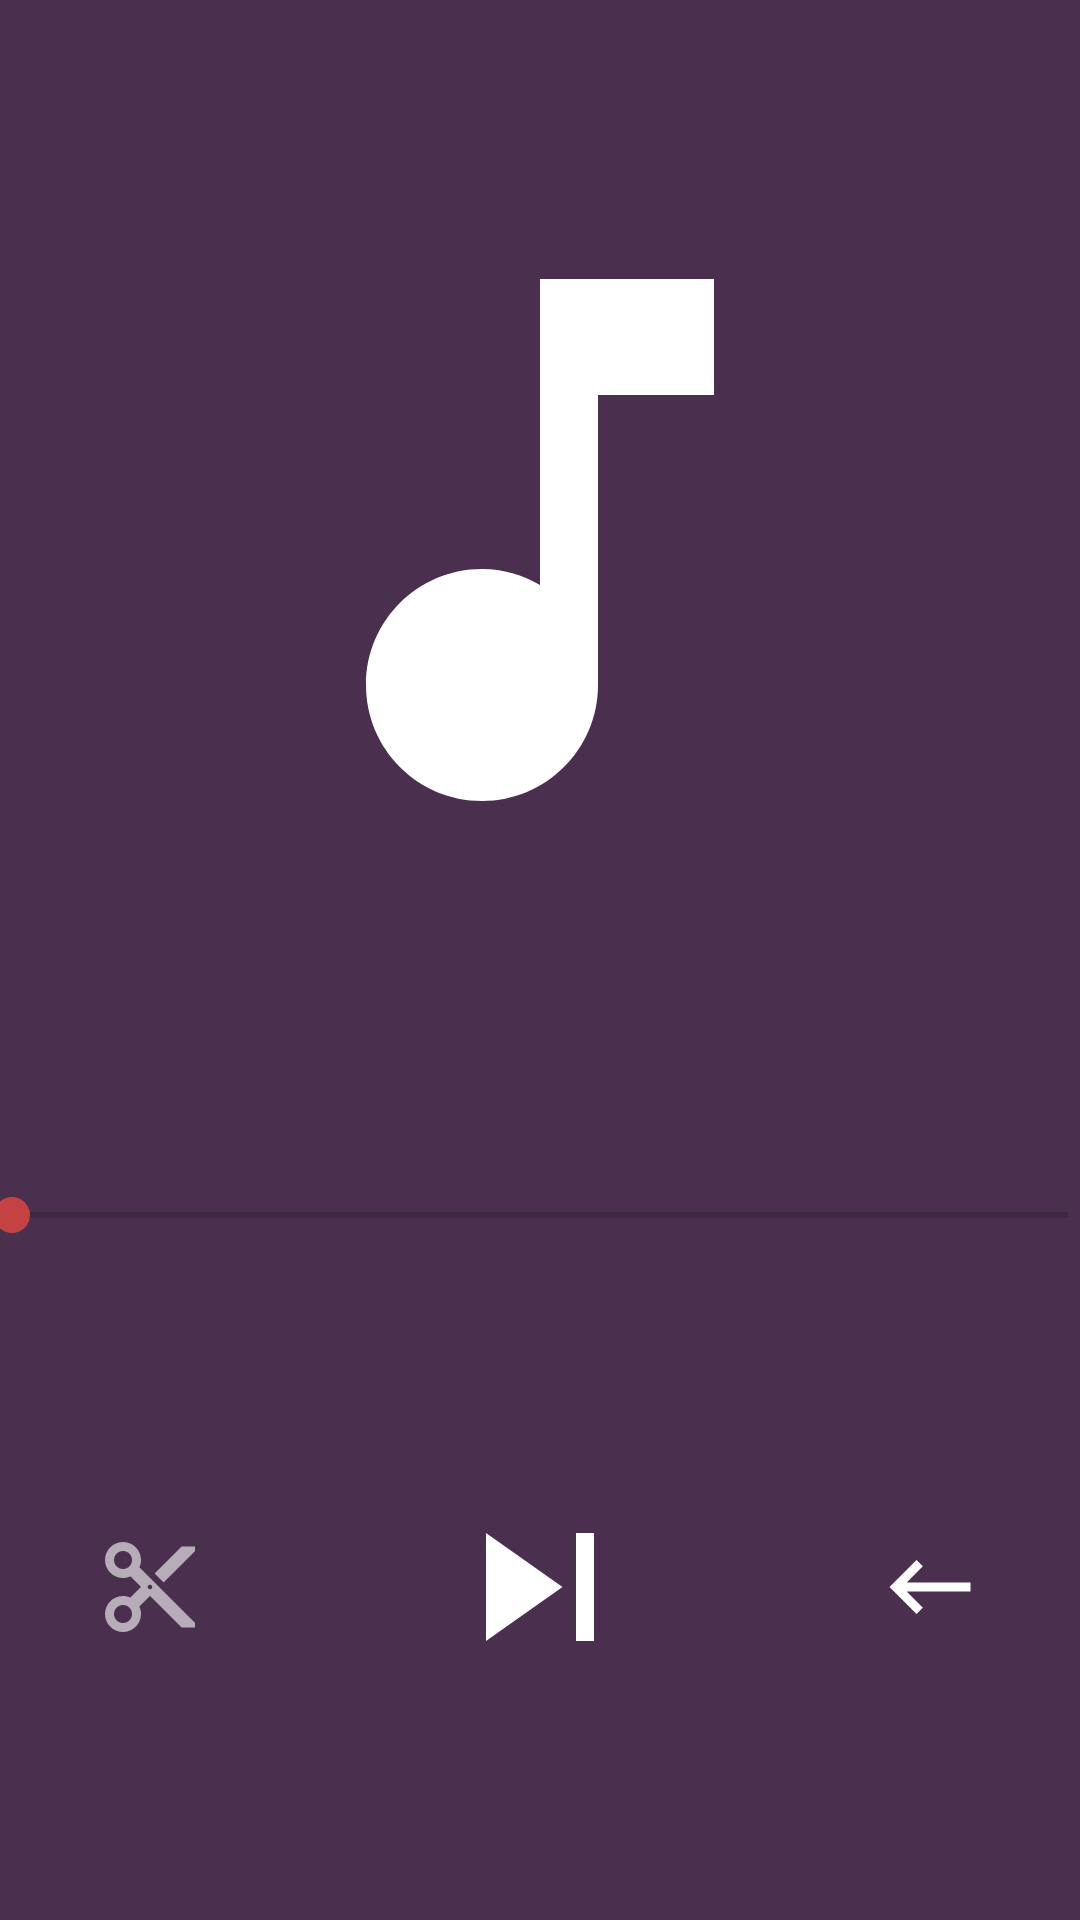

Where to tap for icons on this 1080px×1920px app screen, as (x=x, y=y):
cut checkbox: (x=150, y=1587)
next: (x=540, y=1587)
